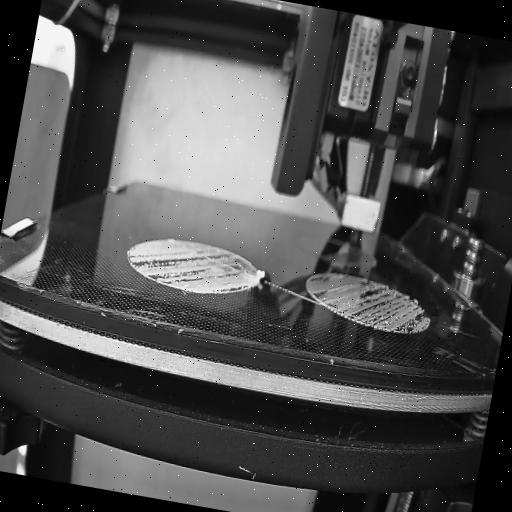under_extrusion: (124, 238, 256, 296), (348, 272, 434, 336), (301, 269, 342, 311)
